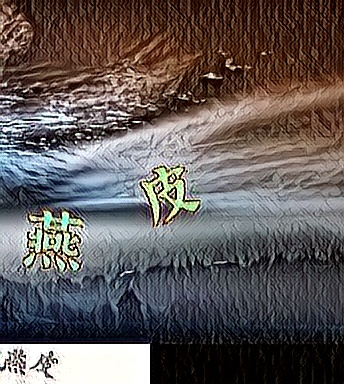C6A4: (140, 163, 201, 226)
D1E0: (21, 211, 82, 274)
